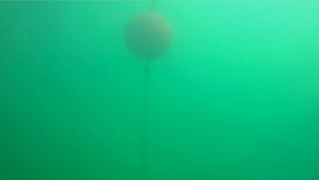buoy: (123, 10, 174, 61)
